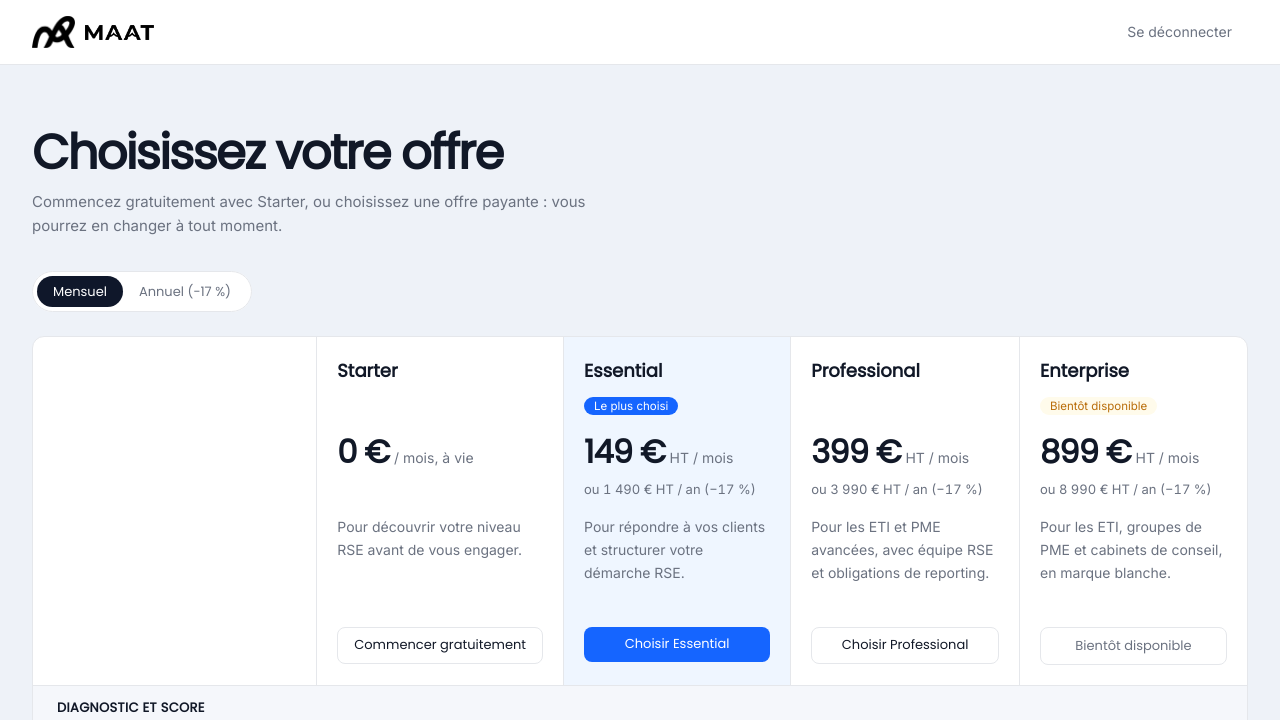
Test case: SubscriptionPage › affiche l’erreur quand le paiement ne peut pas être ouvert
This screenshot has width=1280, height=720.
Click the button "Choisir Essential". click: click(677, 644)
box: [584,627,770,662]
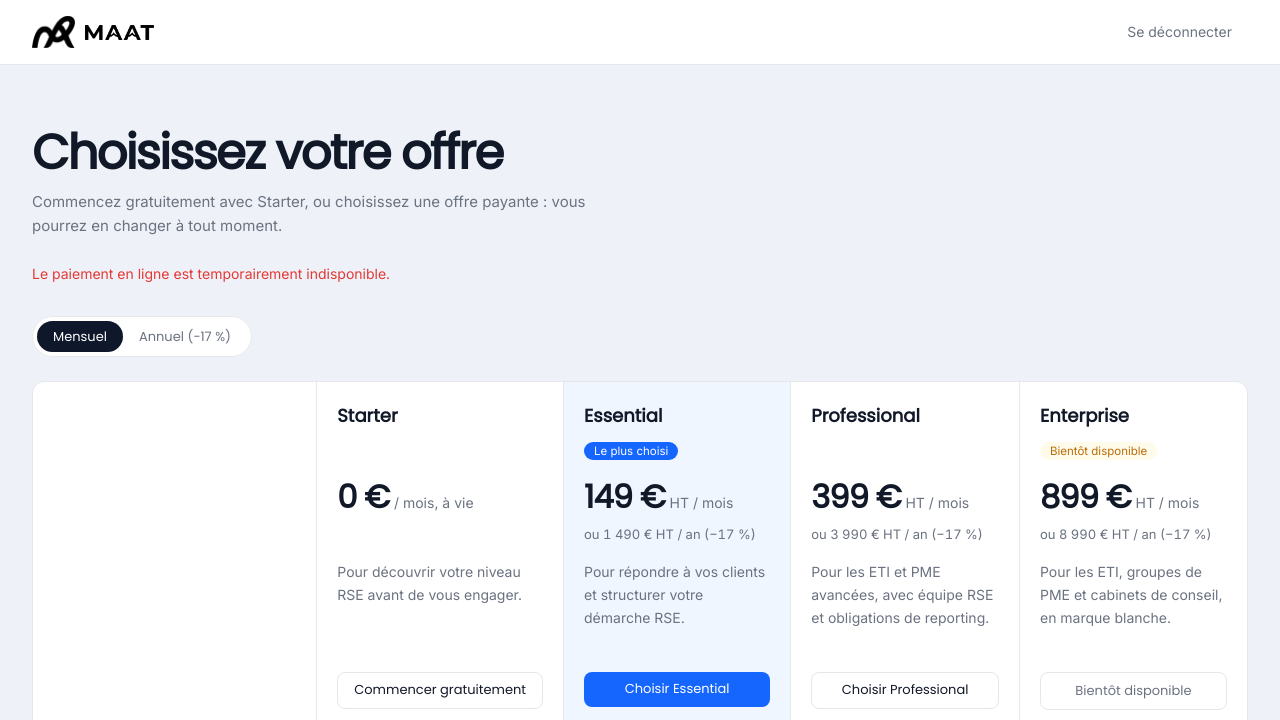
Now the message reads "Le paiement en ligne est temporairement indisponible.", box [32,265,390,282]
